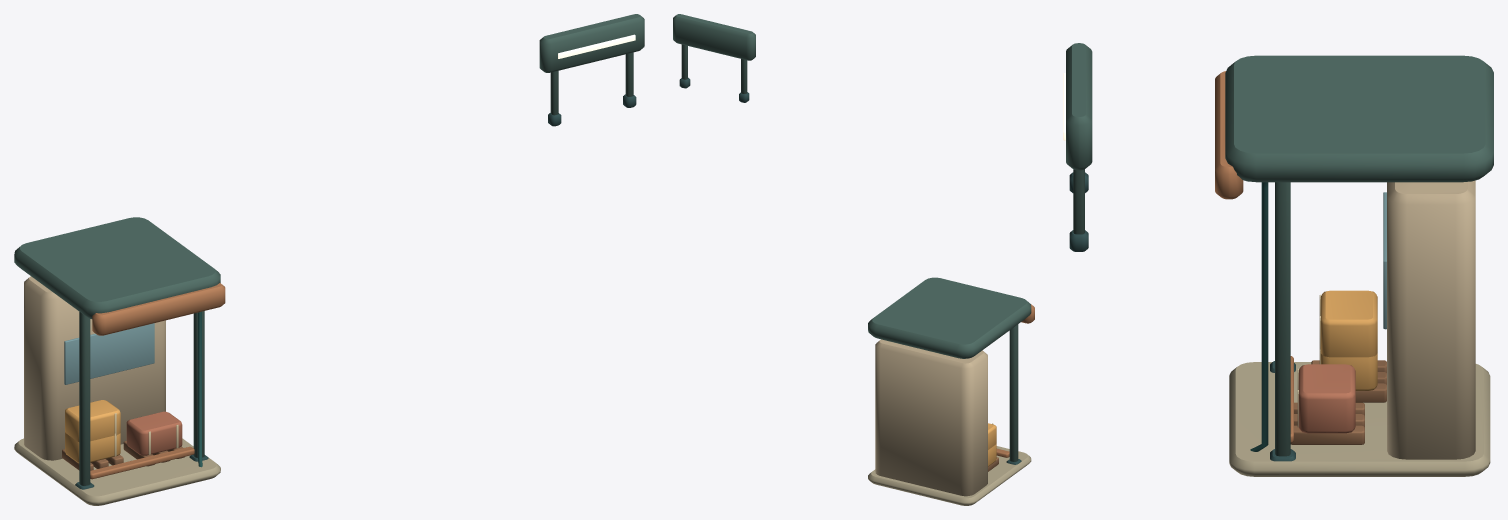
Rendered from wilderness_logging_4.glb.
3 renders of one model, left to right at view 1: azimuth 30°, elevation 25°; view 2: azimuth 150°, elevation 25°; view 3: azimuth 270°, elevation 25°, orthographic. The views are drawn at different scales.
Visible parts, largest first — view 1: WildernessLogging4; view 2: WildernessLogging4; view 3: WildernessLogging4.
Part boxes in pixels (box(x1,y1,x2,y2)): WildernessLogging4: box(14, 14, 644, 505); WildernessLogging4: box(673, 14, 1034, 505); WildernessLogging4: box(1063, 43, 1493, 476).
Size of the model in its own units: 8.77 by 6.76 by 4.09.
